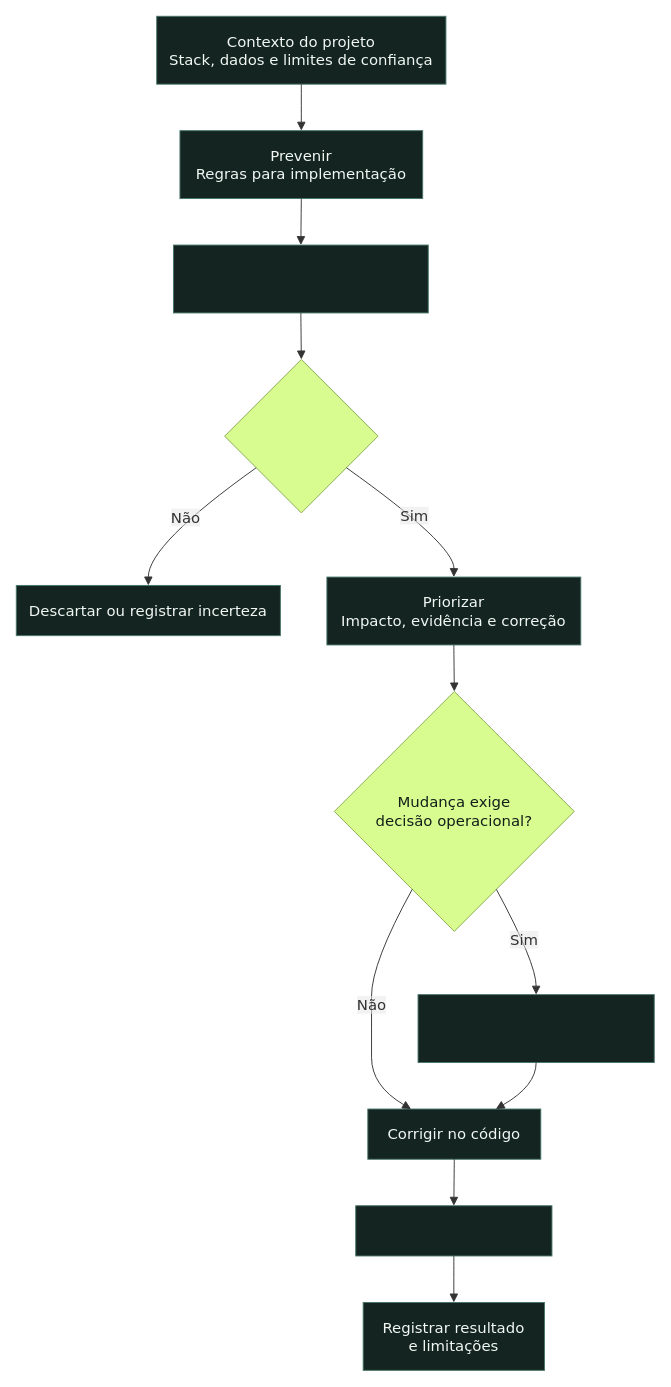
Image size: 671x1387. Some labels were removed from this diagram. Each missing label, with the centre of its shape:
Há evidência no contexto?: the point at 301,436
Responsável aprova Plano e janela de mudança: the point at 535,1028
Revisar o código Leitura e análise estática local: the point at 300,278
Revisar o diff e testar: the point at 453,1230
